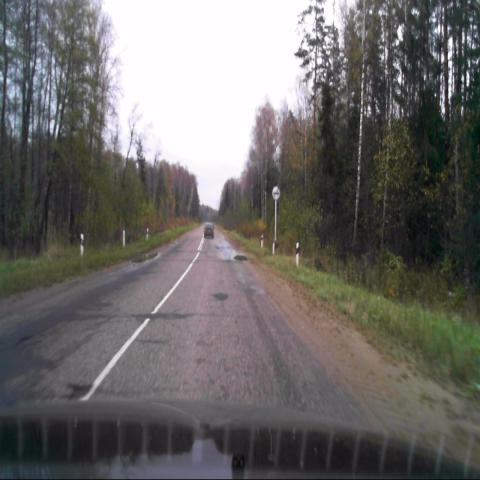3_21: (272, 185, 280, 200)
